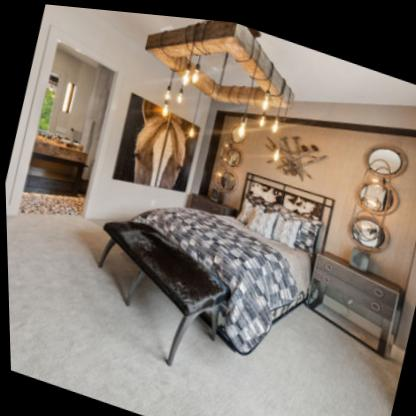Bed: (129, 169, 332, 351)
Carpet: (5, 213, 180, 416)
